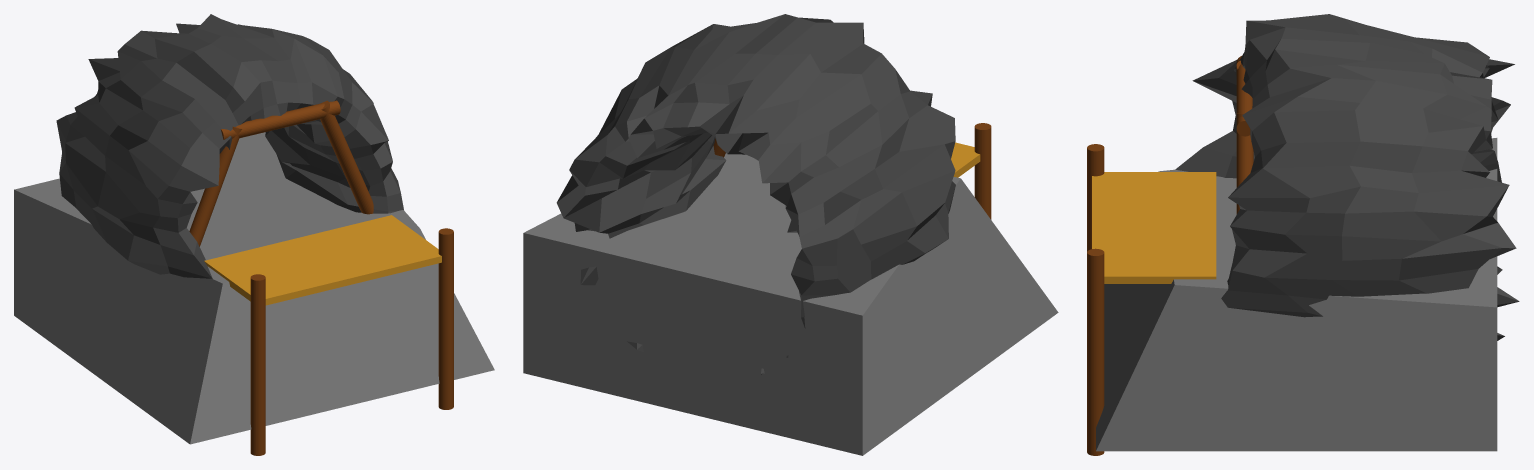
Rendered from Mine.fbx.
3 renders of one model, left to right at view 1: azimuth 30°, elevation 25°; view 2: azimuth 150°, elevation 25°; view 3: azimuth 270°, elevation 25°, orthographic. The views are drawn at different scales.
Parts seen in each view (by area): view 1: Floor, Walls, PlatformFloor, Struts; view 2: Floor, Walls, Struts, PlatformFloor; view 3: Walls, Floor, PlatformFloor, Struts.
Part boxes in pixels (box(x1,y1,x2,y2)): Floor: box(14, 132, 494, 444); Walls: box(56, 14, 403, 278); PlatformFloor: box(204, 215, 441, 305); Struts: box(189, 100, 453, 455); Floor: box(523, 153, 1058, 455); Walls: box(556, 14, 955, 374); Struts: box(713, 123, 991, 219); PlatformFloor: box(951, 142, 980, 177); Walls: box(1175, 14, 1519, 340); Floor: box(1096, 138, 1497, 451); PlatformFloor: box(1092, 172, 1216, 283); Struts: box(1087, 56, 1253, 455).
Size of the model in its own units: 200 by 196 by 216.
